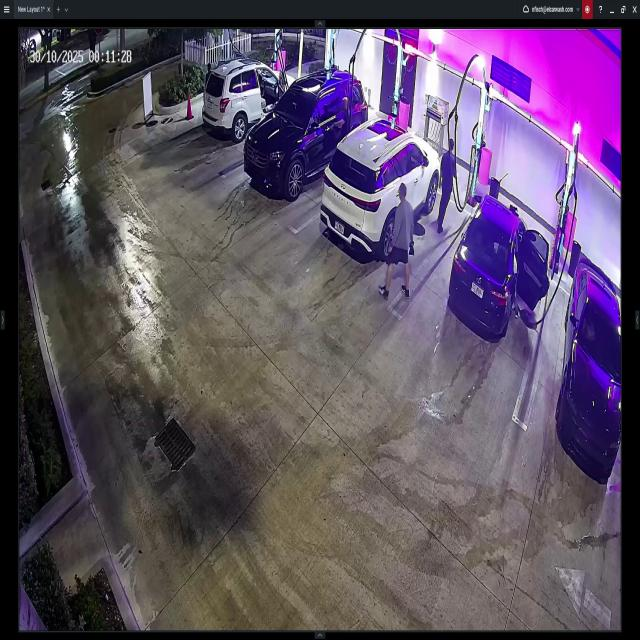Car: (318, 117, 441, 256), (248, 69, 360, 195), (448, 195, 542, 340), (561, 255, 620, 479), (204, 55, 296, 141)
